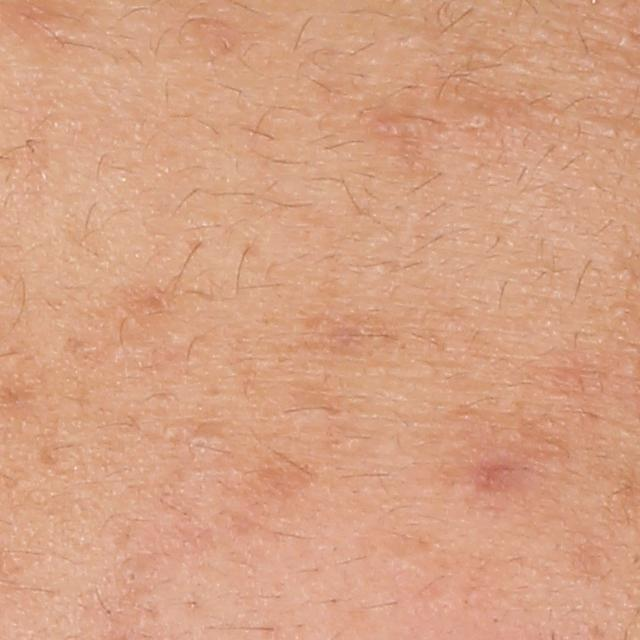comedo: (185, 430, 210, 459), (467, 110, 492, 131), (122, 566, 138, 585)
